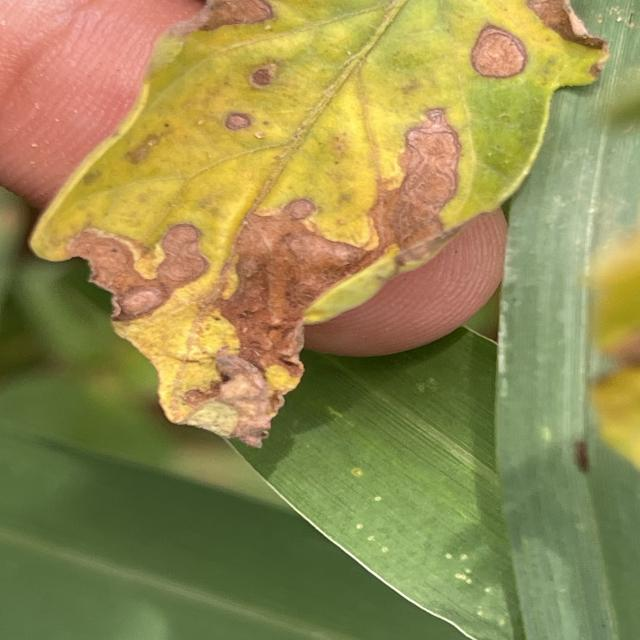tomato_early blight: (30, 0, 608, 441)
